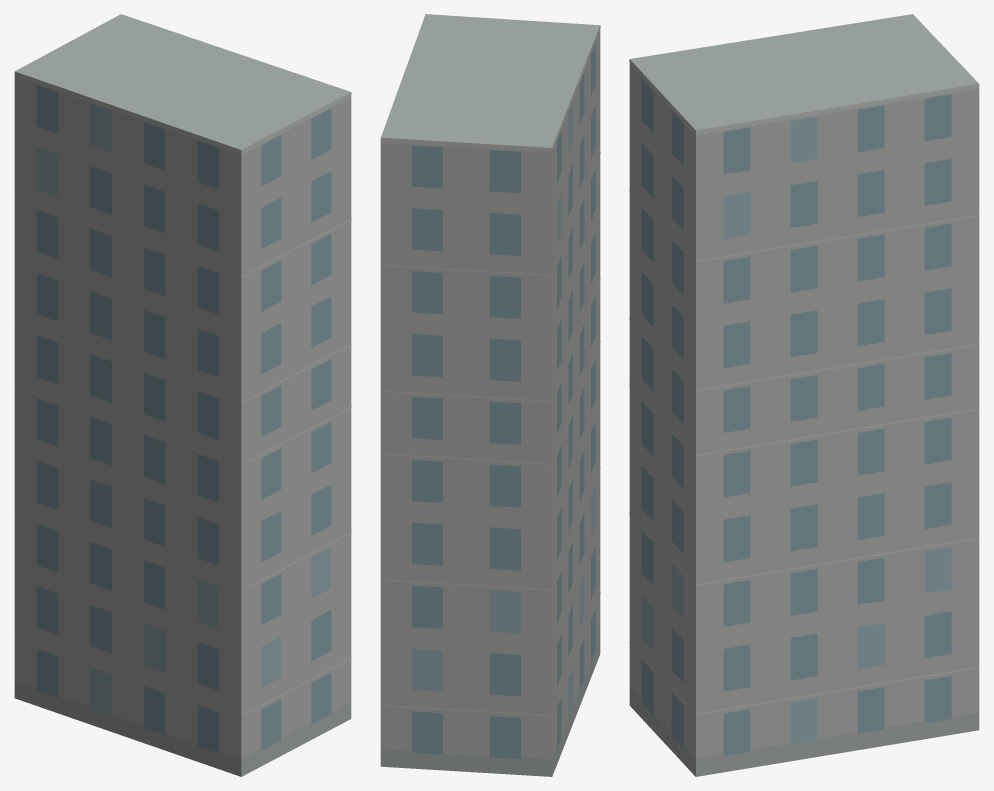
The model's file is survey-upis-32747960.glb.
3 renders of one model, left to right at view 1: azimuth 30°, elevation 25°; view 2: azimuth 150°, elevation 25°; view 3: azimuth 270°, elevation 25°, orthographic. The views are drawn at different scales.
Parts seen in each view (by area): view 1: survey-upis-32747960.tmp; view 2: survey-upis-32747960.tmp; view 3: survey-upis-32747960.tmp.
Part boxes in pixels (x1,y1,x2,y2): survey-upis-32747960.tmp: (14, 14, 351, 776); survey-upis-32747960.tmp: (380, 14, 600, 776); survey-upis-32747960.tmp: (629, 14, 979, 776).
Size of the model in its own units: 11.81 by 30.5 by 14.97.
